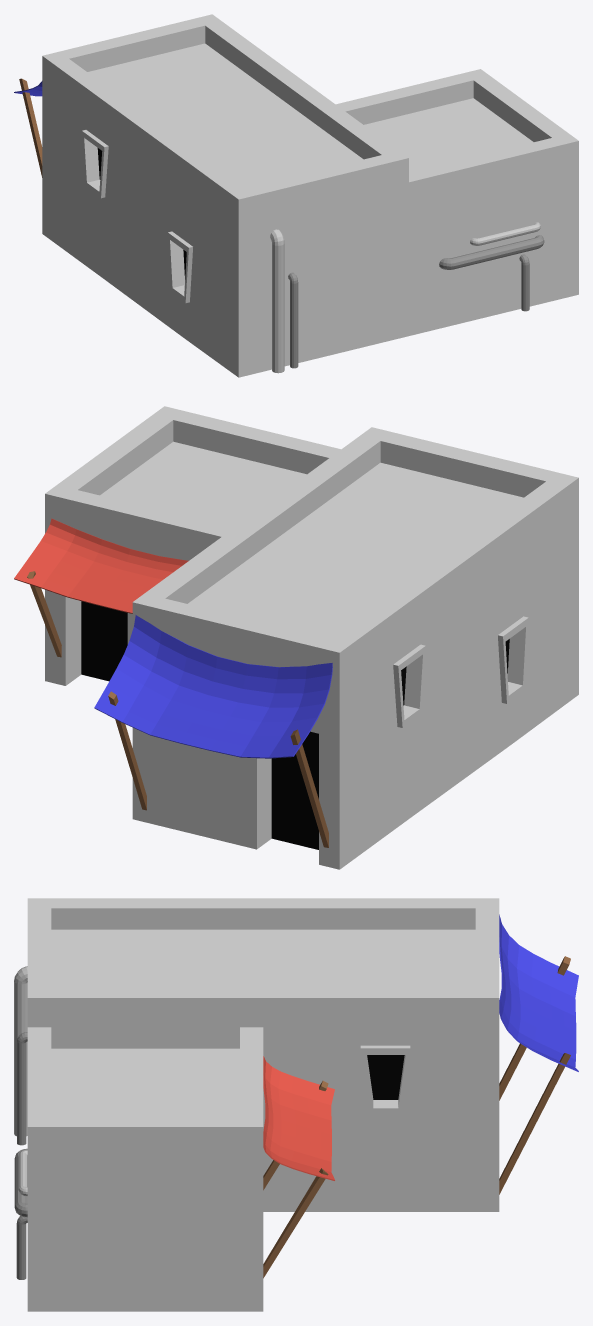
The model's file is Building0.fbx.
3 renders of one model, top to bottom at view 1: azimuth 30°, elevation 25°; view 2: azimuth 150°, elevation 25°; view 3: azimuth 270°, elevation 25°, orthographic. The views are drawn at different scales.
Visible parts, largest first — view 1: Main0, Pipes0, Awning0.000; view 2: Main0, Awning0.000, Awning0.001; view 3: Main0, Awning0.000, Awning0.001, Pipes0.
Part boxes in pixels (x1=…): Main0: x1=42, y1=14, x2=578, y2=377; Pipes0: x1=270, y1=222, x2=544, y2=373; Awning0.000: x1=14, y1=78, x2=42, y2=177; Main0: x1=45, y1=406, x2=578, y2=869; Awning0.000: x1=94, y1=615, x2=332, y2=847; Awning0.001: x1=14, y1=518, x2=188, y2=657; Main0: x1=27, y1=898, x2=499, y2=1311; Awning0.000: x1=499, y1=914, x2=578, y2=1194; Awning0.001: x1=263, y1=1056, x2=334, y2=1278; Pipes0: x1=14, y1=966, x2=27, y2=1279.
Bounding box in the file's own units: 405 × 201 × 479.
